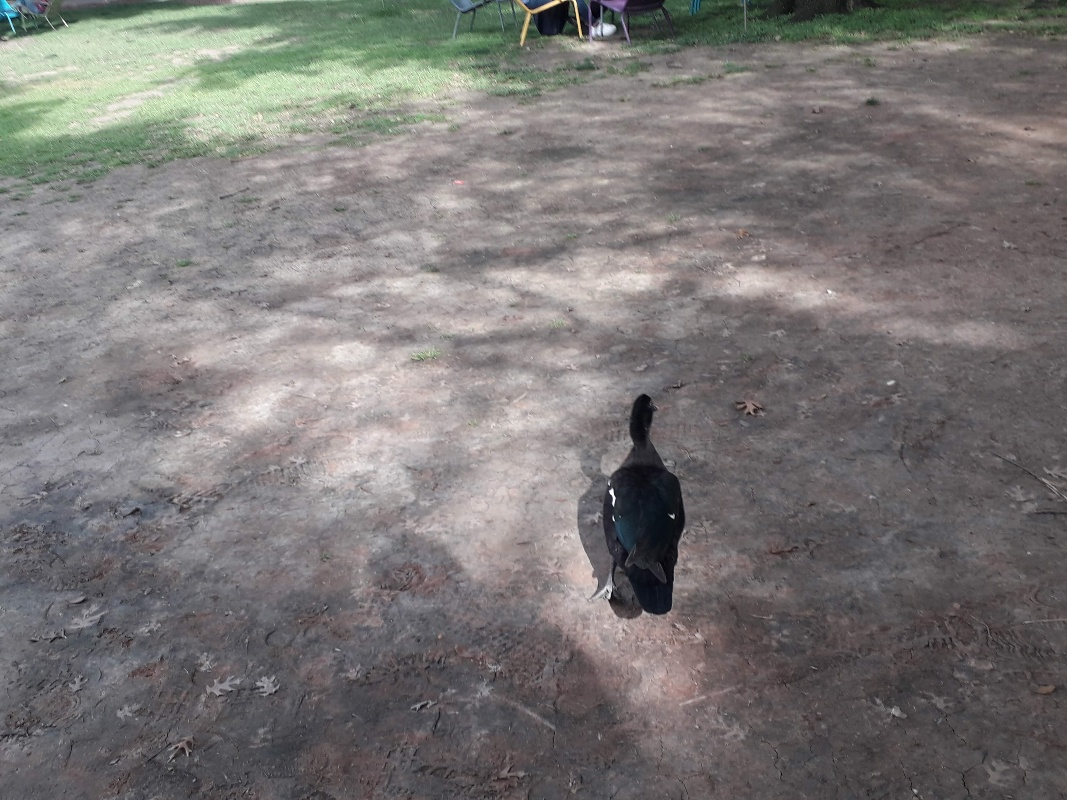pato: (604, 397, 695, 615)
